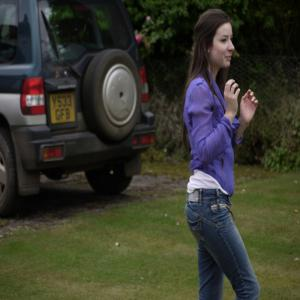Vehicle-registration-plate: (50, 94, 77, 123)
